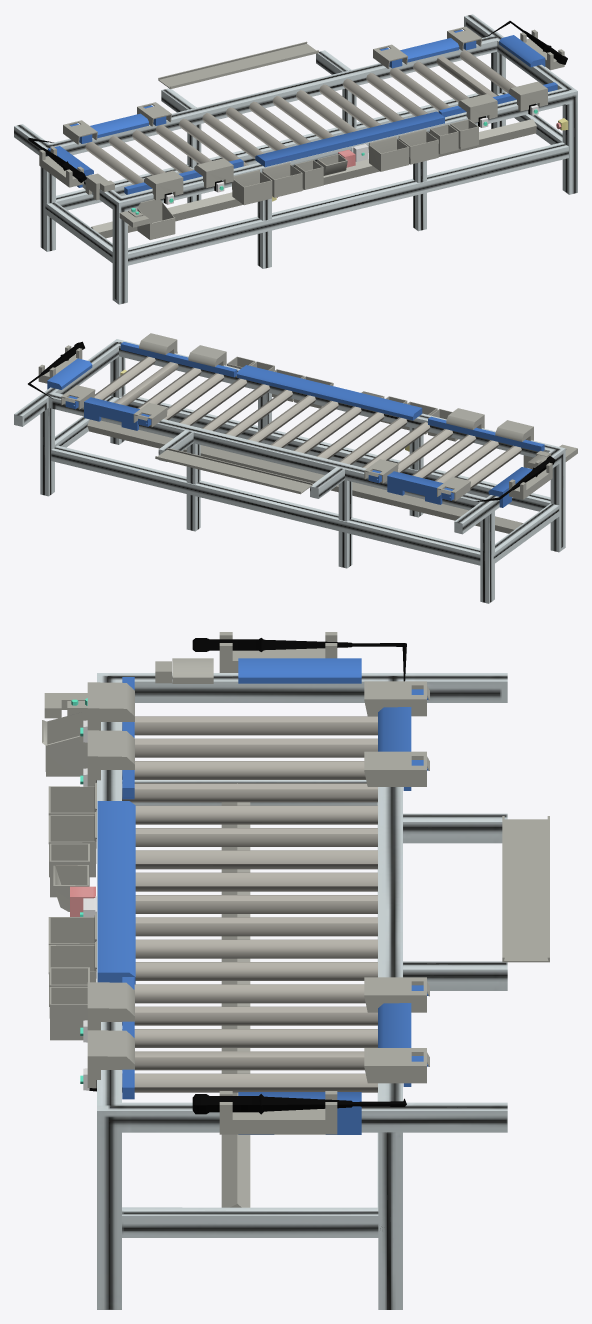
File: liushui2.FBX
3 renders of one model, top to bottom at view 1: azimuth 30°, elevation 25°; view 2: azimuth 150°, elevation 25°; view 3: azimuth 270°, elevation 25°, orthographic. The views are drawn at different scales.
Parts seen in each view (by area): view 1: YF_Model_liushui2; view 2: YF_Model_liushui2; view 3: YF_Model_liushui2.
Part boxes in pixels (left/top/right/bottom): YF_Model_liushui2: left=14, top=14, right=577, bottom=304; YF_Model_liushui2: left=14, top=333, right=577, bottom=603; YF_Model_liushui2: left=42, top=632, right=549, bottom=1309.
Bounding box in the file's own units: 459 × 102 × 209.
